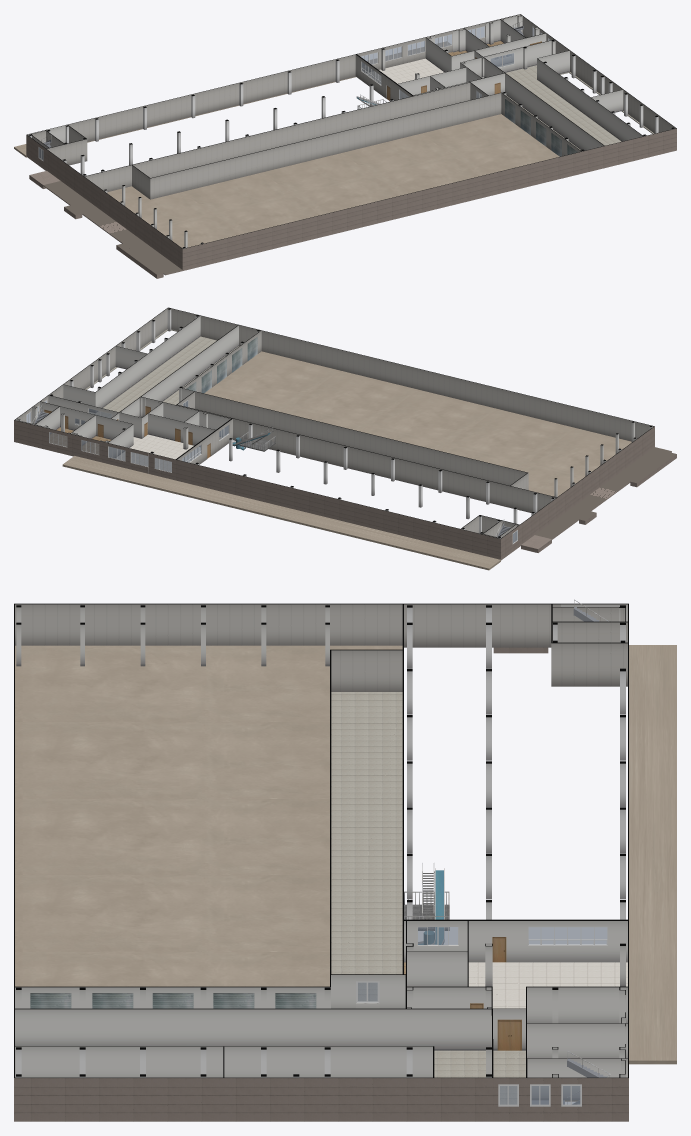
Rendered from Logistics-2F.glb.
3 renders of one model, top to bottom at view 1: azimuth 30°, elevation 25°; view 2: azimuth 150°, elevation 25°; view 3: azimuth 270°, elevation 25°, orthographic. The views are drawn at different scales.
Visible parts, largest first — view 1: Logistics-2F, Line2250, Box2769, Rectangle976, Rectangle1010, Box042; view 2: Logistics-2F, Line2250, Box042, Box2769, Rectangle976, Rectangle1010, Box2785, Rectangle982; view 3: Line2250, Logistics-2F, Box042, Rectangle976, Rectangle1010, Box2785, Logistics-2-01, Box2773.
Boxes of the visible parts, <box> form: Logistics-2F: <box>26,14,676,270</box>; Line2250: <box>107,41,654,248</box>; Box2769: <box>29,171,182,278</box>; Rectangle976: <box>38,26,550,161</box>; Rectangle1010: <box>505,99,577,156</box>; Box042: <box>14,41,451,157</box>; Logistics-2F: <box>14,307,654,560</box>; Line2250: <box>50,329,631,512</box>; Box042: <box>62,456,500,570</box>; Box2769: <box>521,447,676,552</box>; Rectangle976: <box>26,399,517,544</box>; Rectangle1010: <box>186,337,257,393</box>; Box2785: <box>239,426,275,451</box>; Rectangle982: <box>65,406,210,458</box>; Line2250: <box>15,645,627,1104</box>; Logistics-2F: <box>14,603,628,1121</box>; Box042: <box>629,645,676,1064</box>; Rectangle976: <box>356,926,607,1106</box>; Rectangle1010: <box>30,993,316,1008</box>; Box2785: <box>404,863,449,930</box>; Logistics-2-01: <box>418,868,444,944</box>; Box2773: <box>497,1019,521,1050</box>.
Size of the model in its own units: 86.1 by 5.17 by 48.5.
20 materials, 16 textured.
